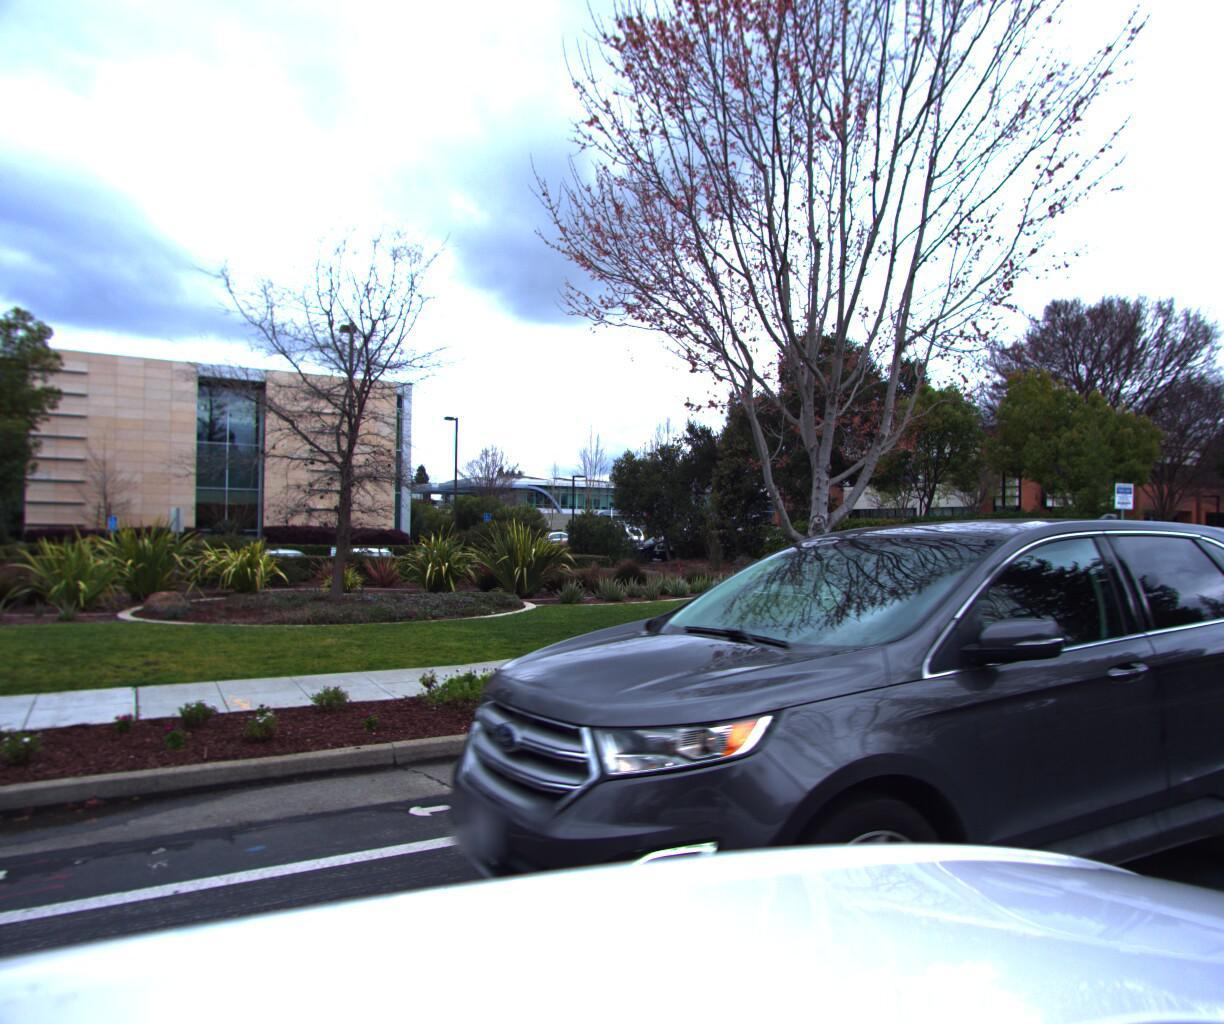car: (411, 417, 1224, 1024)
